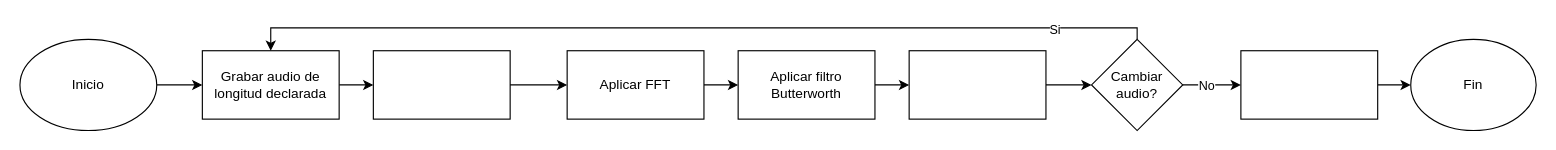
Image size: 1556x150. Some labels were removed from this diagram. The shapes that lost their labels are listed below. From the top down, each one's centre as x and y in pixels, then its label:
At point (441, 84): "Guardar audio".
At point (977, 84): "Aplicar FFT a señal filtrada".
At point (1309, 84): "Tomar señal sin filtrar y filtrada para graficar amplitud y frecuencia".
